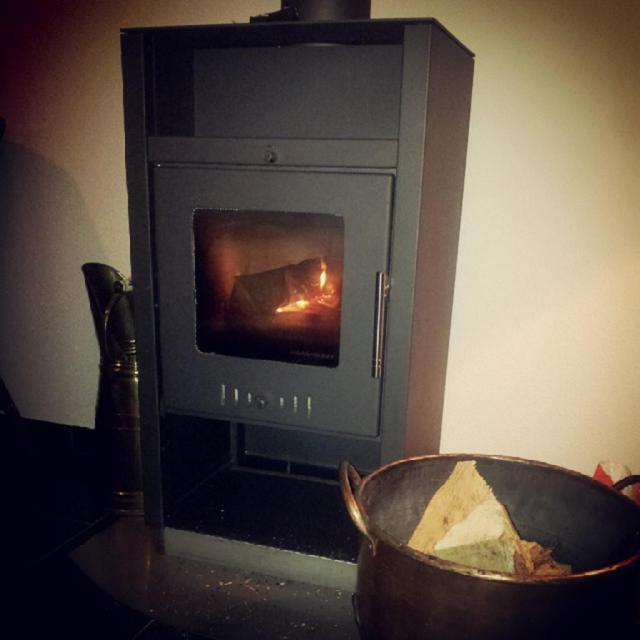Fire: (240, 238, 344, 331)
